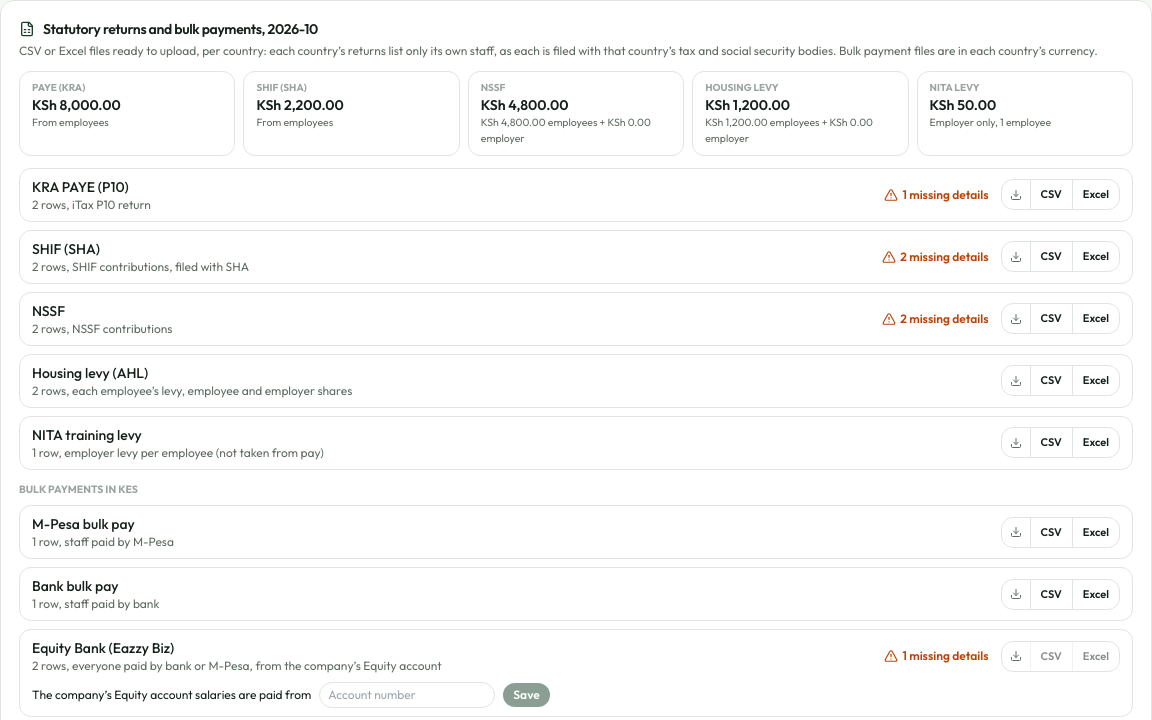
Test case: PayrollExportsPanel › asks for the company’s Equity account before the Eazzy Biz file can be downloaded
Later steps or results of the test are not shown.
Expected: the text "Equity Bank (Eazzy Biz)" is shown, [32,639,174,657]
Expected: the button with aria-label "Download CSV" is disabled, [1030,642,1072,670]
Type "0123 456 789" into the field labelled "The company’s Equity account salaries are paid from" at (407, 695), box [319,682,495,708]
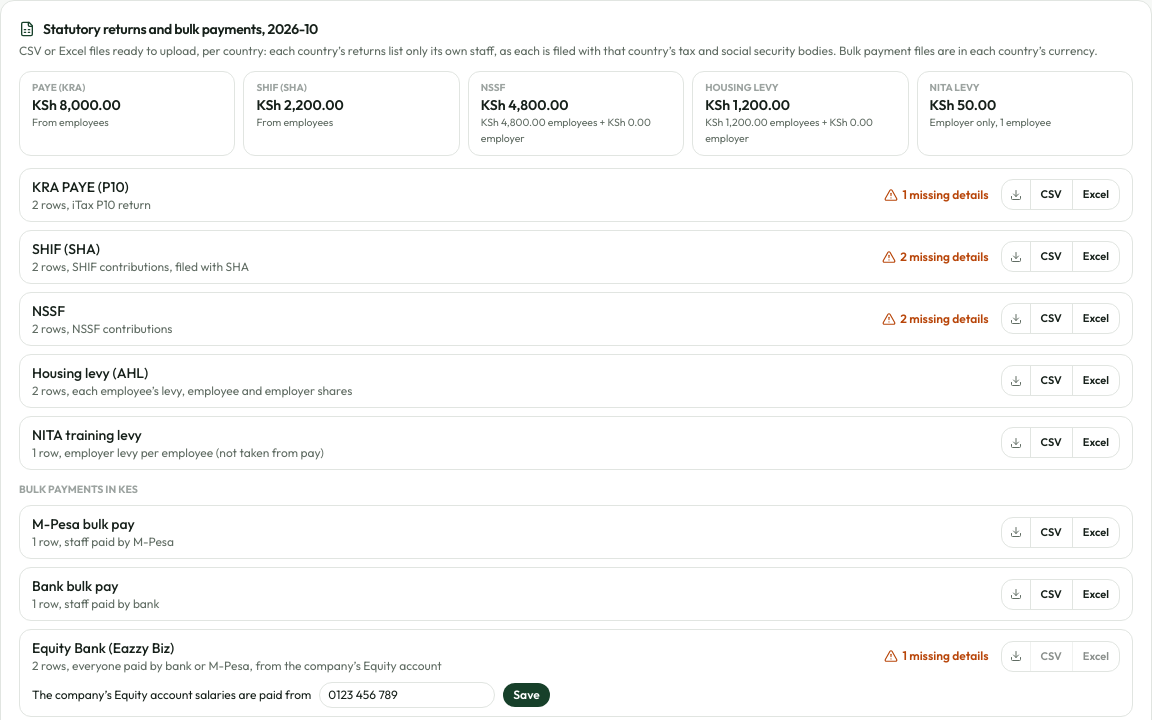
Click the button "Save" at (526, 695), box [503,683,550,707]
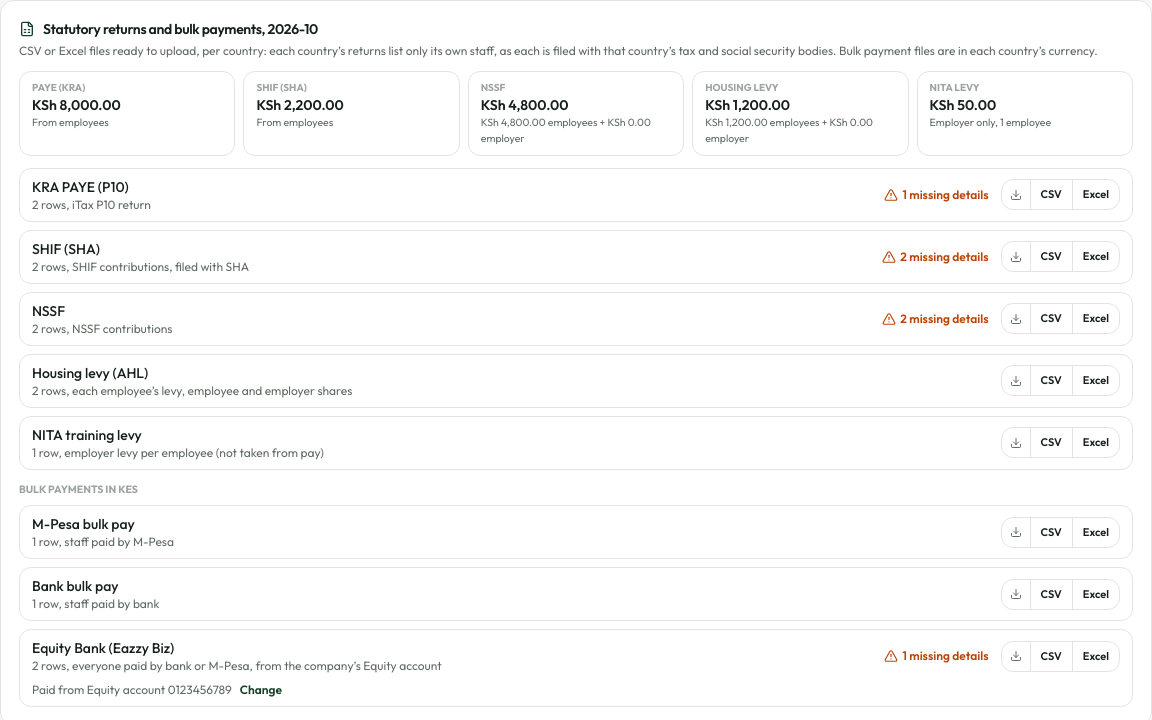
Result: the text "Paid from Equity account 0123456789" is shown at [32,682,232,698]
